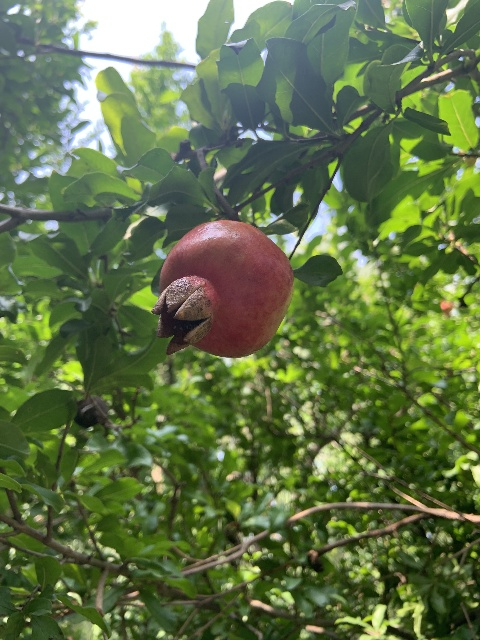ripe: (155, 219, 294, 358)
